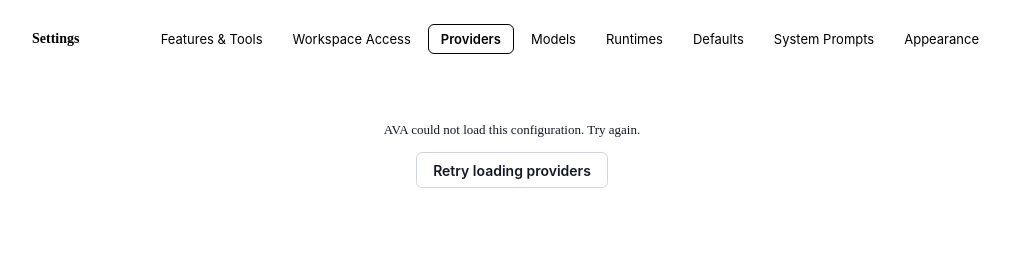
Test: Settings error and retry › retries the failed section on demand
The width and height of the screenshot is (1024, 255).
Click the button "Retry loading providers" at (512, 170), box [416, 152, 608, 188]
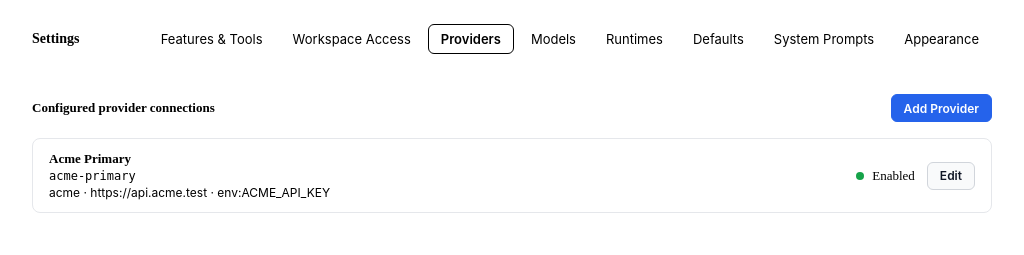
Expected: the text "Acme Primary" is shown, [49, 151, 131, 166]
Expected: the message with test id "settings-error" is gone
